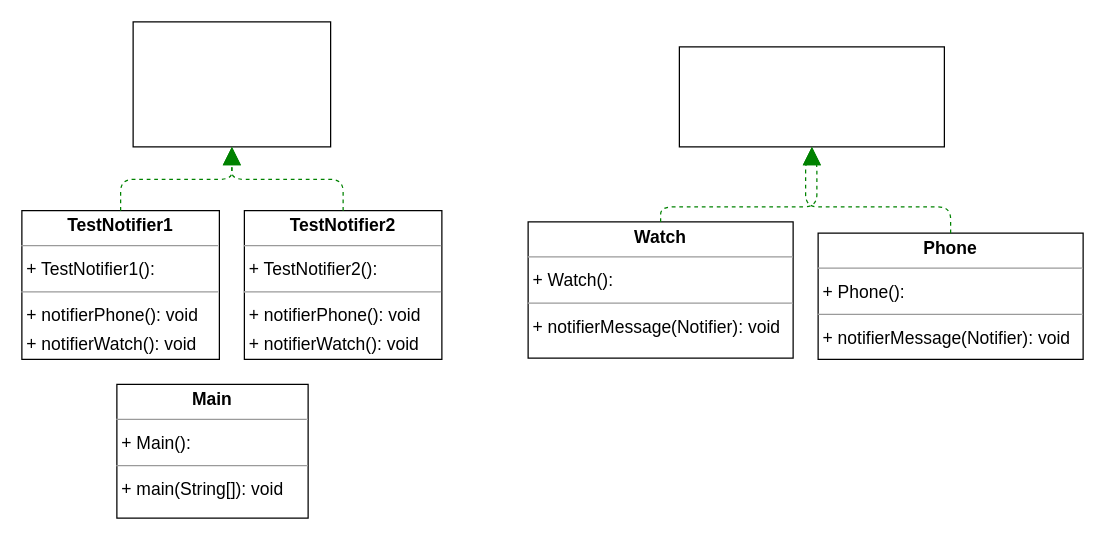
The diagram is 1105 pixels wide and 540 high, and some of its shapes have lost their labels. Each missing label, with the centre of its shape:
<<interface>> Device + notifierMessage(Notifier): void: the point at 811,96
<<interface>> Notifier + notifierPhone(): void + notifierWatch(): void: the point at 231,84
